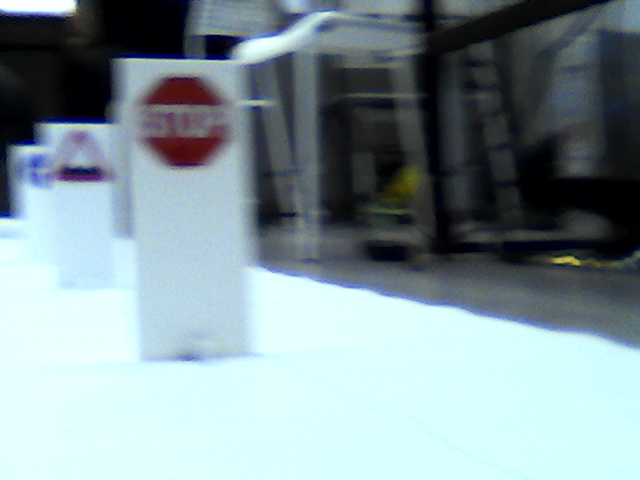Stop: (133, 70, 225, 170)
